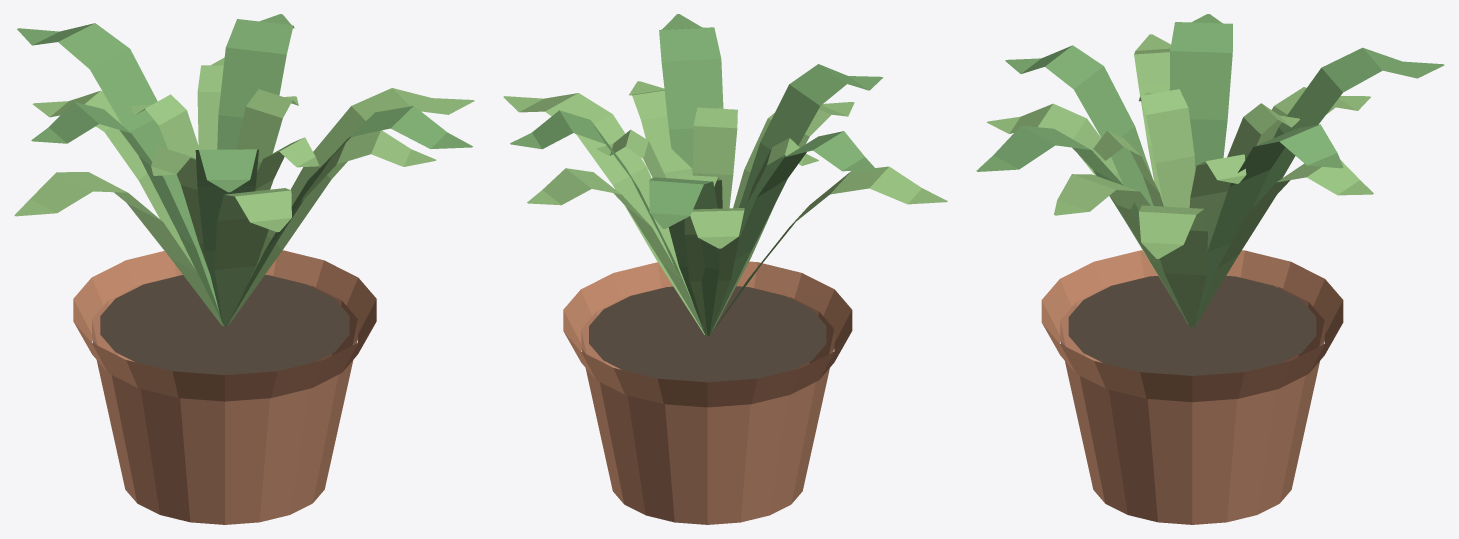
File: plant.glb
The picture shows the model from 3 angles, left to right: view 1: azimuth 30°, elevation 25°; view 2: azimuth 150°, elevation 25°; view 3: azimuth 270°, elevation 25°; orthographic projection. The views are drawn at different scales.
Visible parts, largest first — view 1: leaves_b, pot, leaves_a, soil, rim; view 2: pot, leaves_b, leaves_a, soil, rim; view 3: pot, leaves_b, leaves_a, soil, rim.
Boxes of the visible parts, x1=… form: leaves_b: x1=14, y1=57, x2=474, y2=326; pot: x1=92, y1=275, x2=357, y2=524; leaves_a: x1=17, y1=14, x2=472, y2=326; soil: x1=100, y1=275, x2=349, y2=374; rim: x1=73, y1=250, x2=376, y2=401; pot: x1=581, y1=287, x2=834, y2=524; leaves_b: x1=503, y1=81, x2=947, y2=335; leaves_a: x1=510, y1=14, x2=882, y2=335; soil: x1=589, y1=286, x2=826, y2=382; rim: x1=563, y1=261, x2=852, y2=407; pot: x1=1060, y1=277, x2=1324, y2=524; leaves_b: x1=987, y1=34, x2=1373, y2=327; leaves_a: x1=976, y1=14, x2=1444, y2=327; soil: x1=1068, y1=276, x2=1316, y2=375; rim: x1=1041, y1=250, x2=1343, y2=402.
Bounding box in the file's own units: 1.27 × 1.04 × 1.12.
